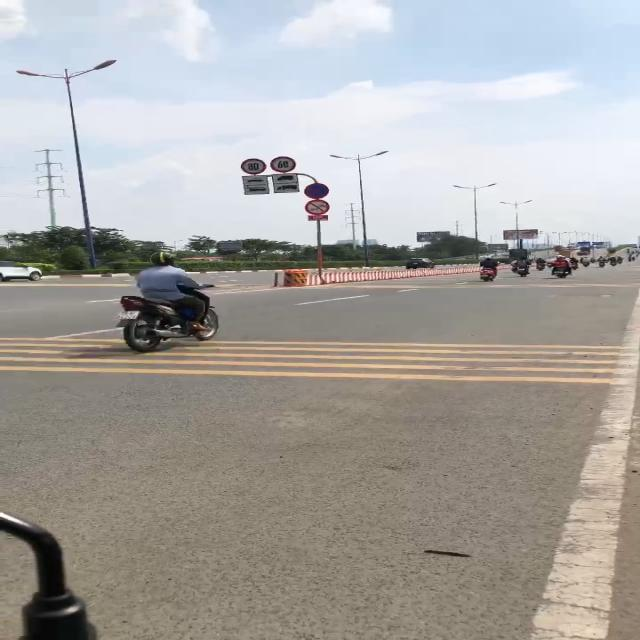Bien bao toc do toi da cho phep: (267, 154, 303, 173), (238, 157, 269, 176)
